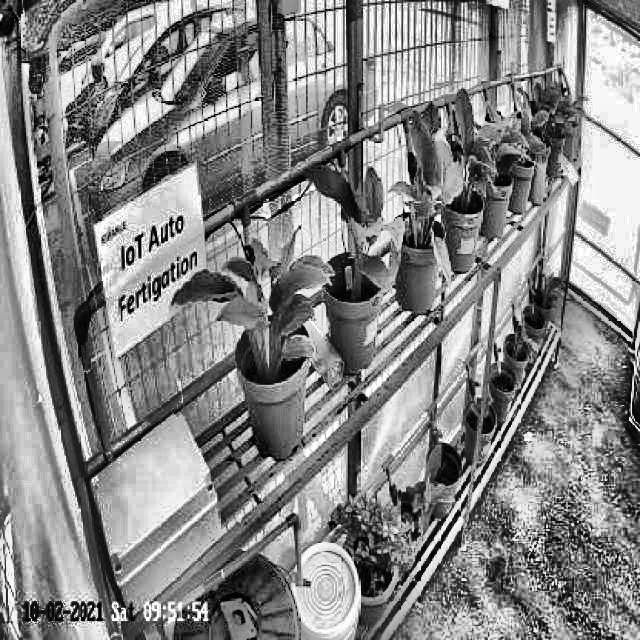plants: (170, 220, 336, 380), (303, 154, 405, 296), (384, 98, 456, 291), (426, 92, 500, 216)
